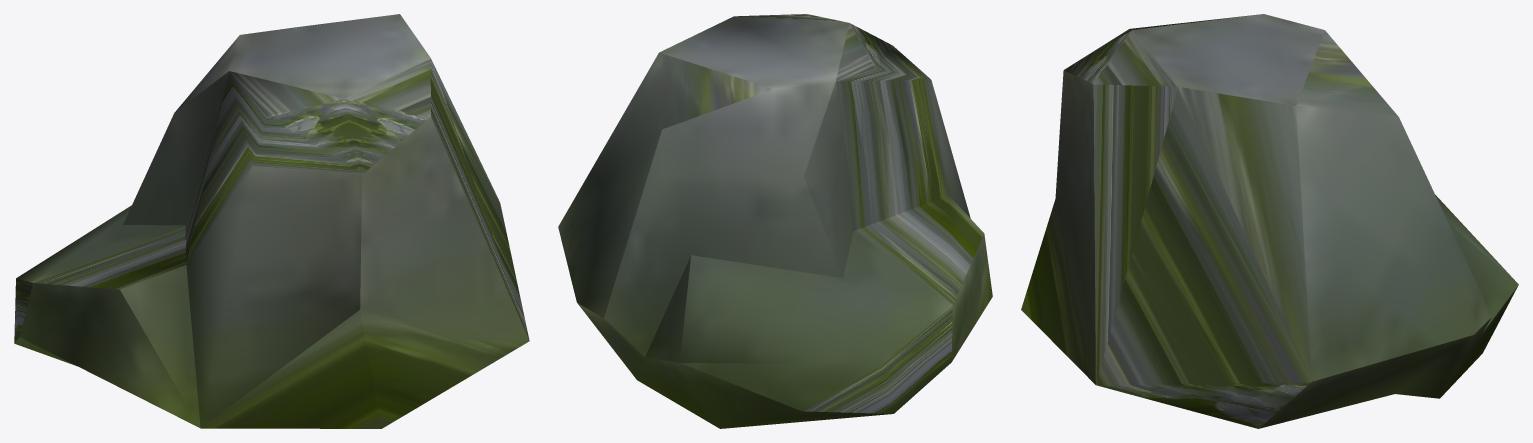
Rendered from Rock_Medium_1.low.gltf.
3 renders of one model, left to right at view 1: azimuth 30°, elevation 25°; view 2: azimuth 150°, elevation 25°; view 3: azimuth 270°, elevation 25°, orthographic. The views are drawn at different scales.
Visible parts, largest first — view 1: Rock_Medium_1; view 2: Rock_Medium_1; view 3: Rock_Medium_1.
Boxes of the visible parts, x1,y1,x2,y2 form: Rock_Medium_1: (14,14,529,428); Rock_Medium_1: (558,14,992,428); Rock_Medium_1: (1021,14,1518,428).
Bounding box in the file's own units: 3.21 × 2.19 × 2.95.
Materials: 1 (1 with a texture image).
